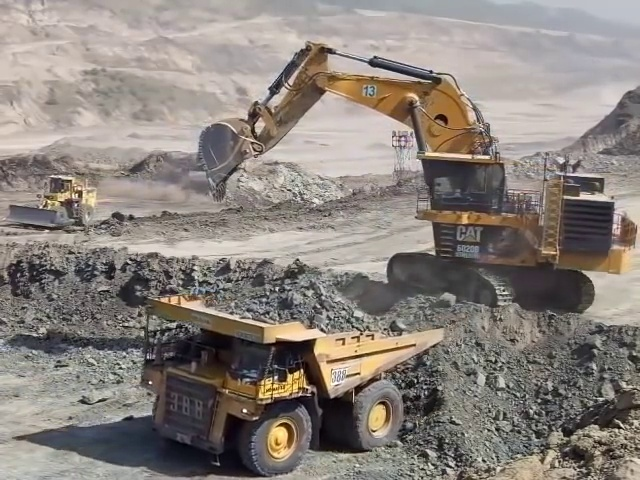dumper: (142, 293, 447, 475)
excavator: (197, 40, 636, 314)
wheel loader: (7, 174, 97, 228)
